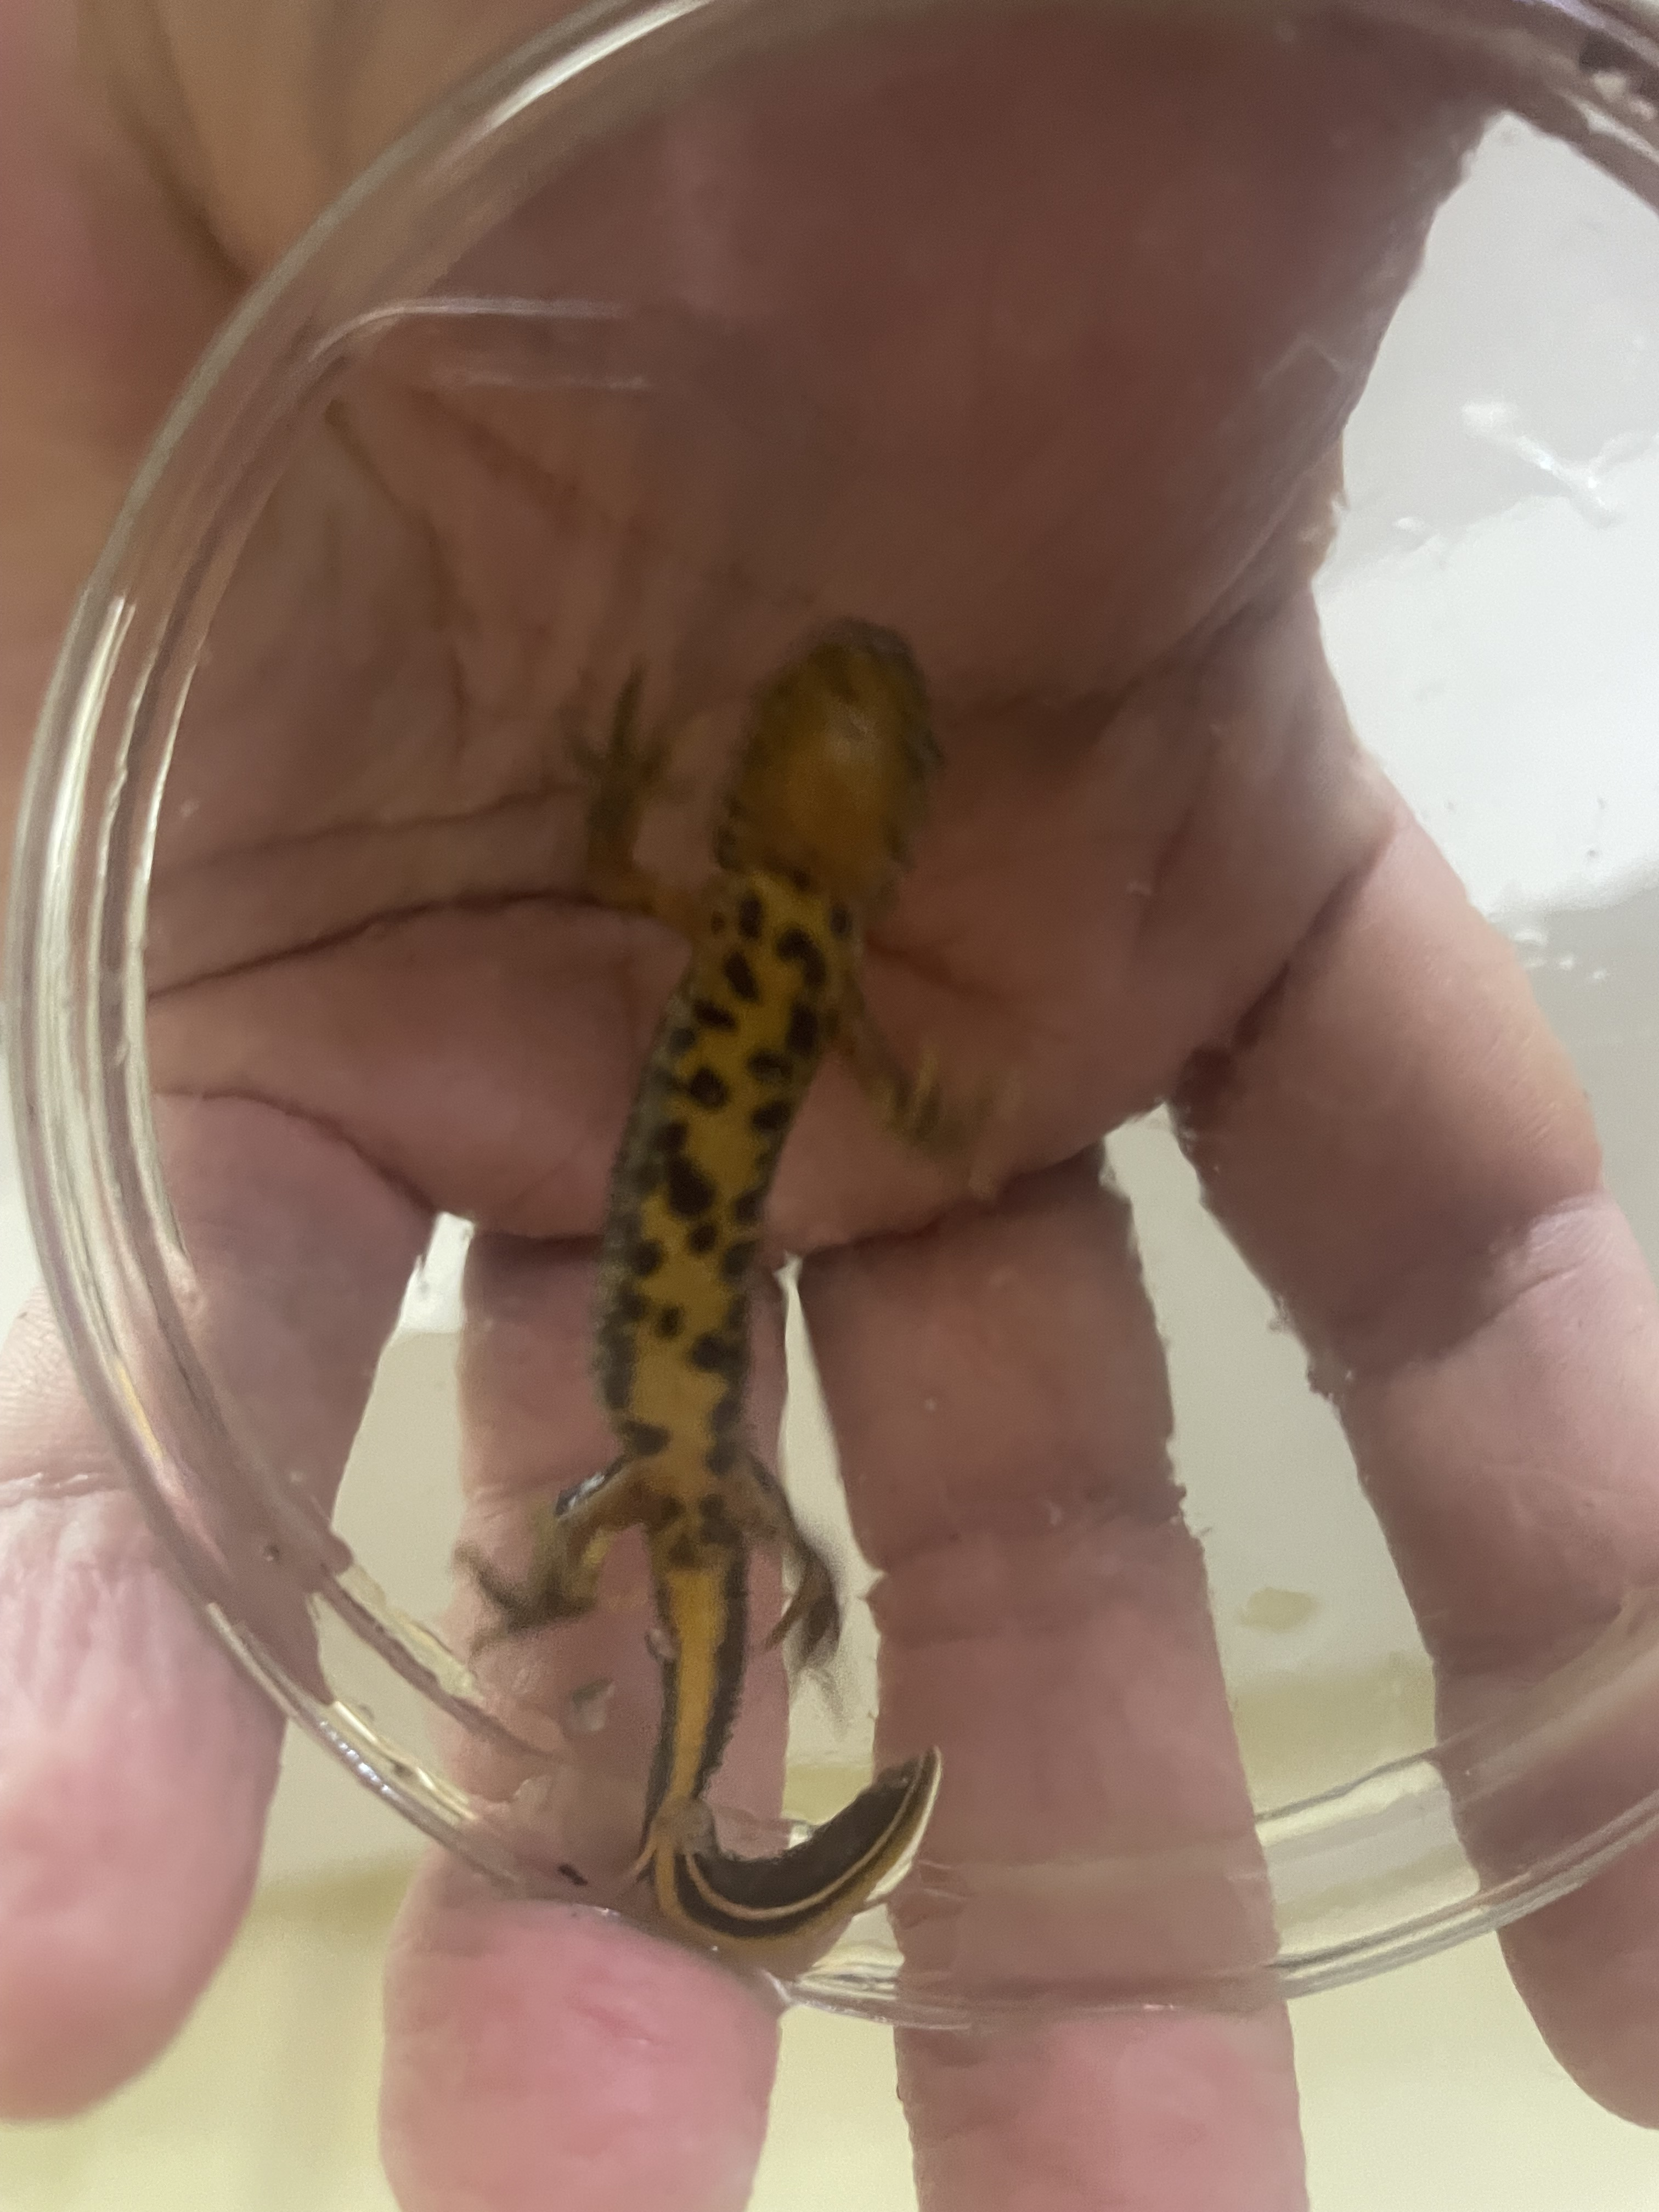Karelin_newt: (592, 942, 830, 1456)
